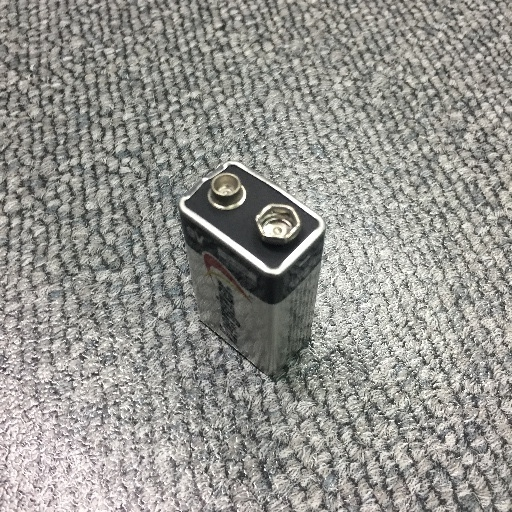Battery_3: (166, 145, 335, 398)
